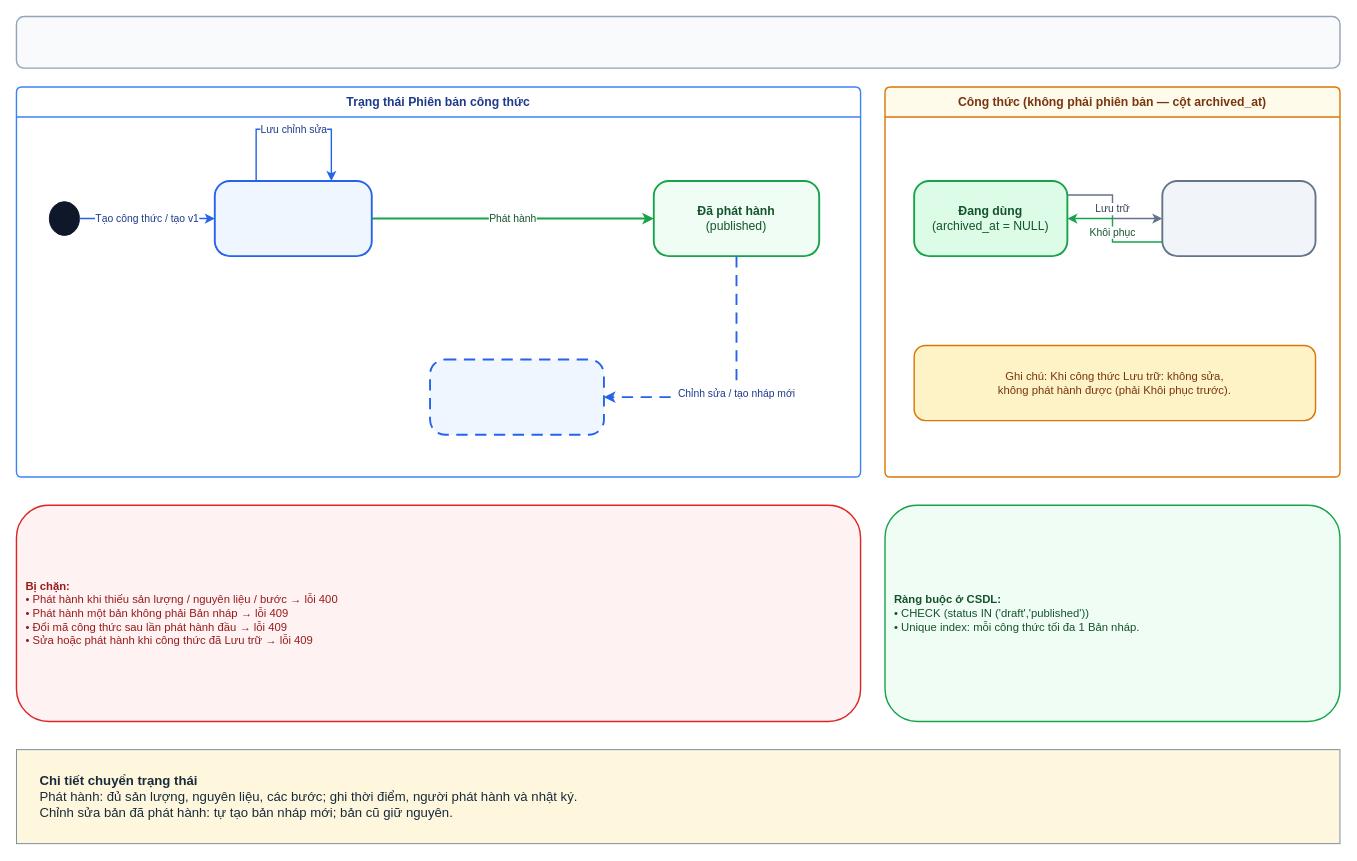
This 1357x861 diagram has some shape labels left out. Each missing label, with the centre of its shape:
"Bản nháp (draft)" belongs at (x=292, y=218).
"Bản nháp v(N+1) (draft mới)" belongs at (x=516, y=396).
"Lưu trữ (archived_at có giá trị)" belongs at (x=1238, y=218).
"Vòng đời phiên bản công thức Chuyển trạng thái = Sự kiện [Điều kiện] / Hành động" belongs at (x=677, y=41).
